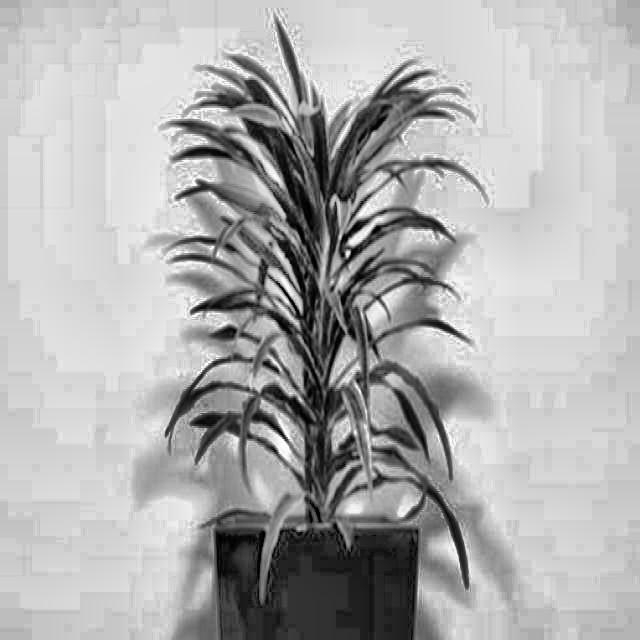plants: (150, 11, 482, 594)
